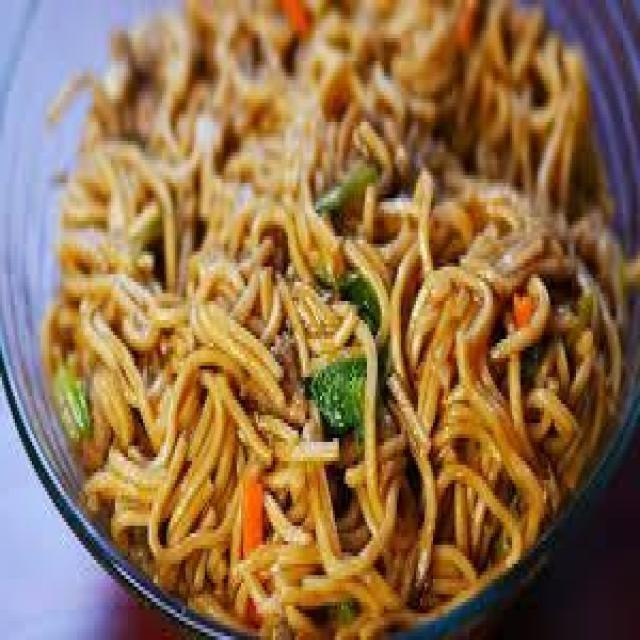pancit bihon: (49, 0, 629, 639)
